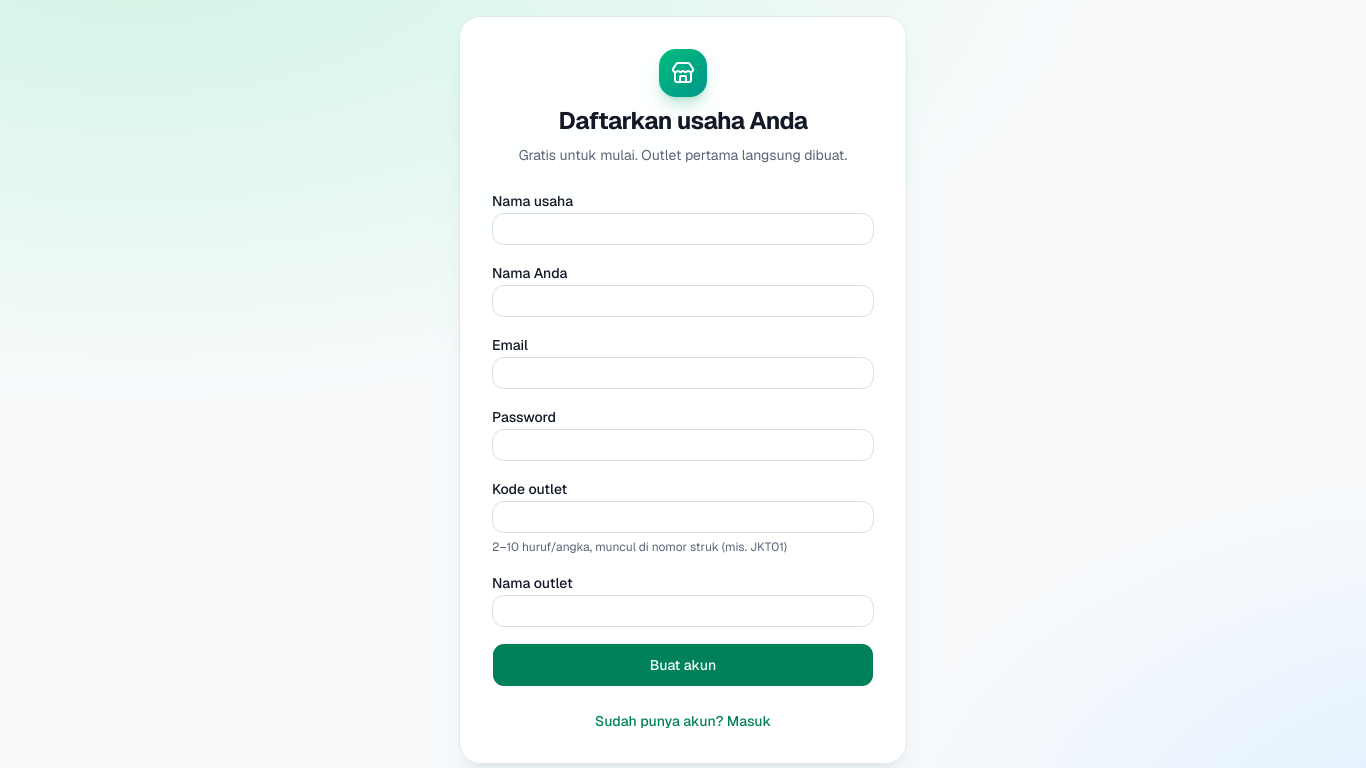
Test case: SignupScreen › shows which field the server rejected
The image size is (1366, 768).
Type "Warung" into the field labelled "Nama usaha" at [683, 229], box [492,213,874,245]
Type "Budi" into the field labelled "Nama Anda" at [683, 301], box [492,285,874,317]
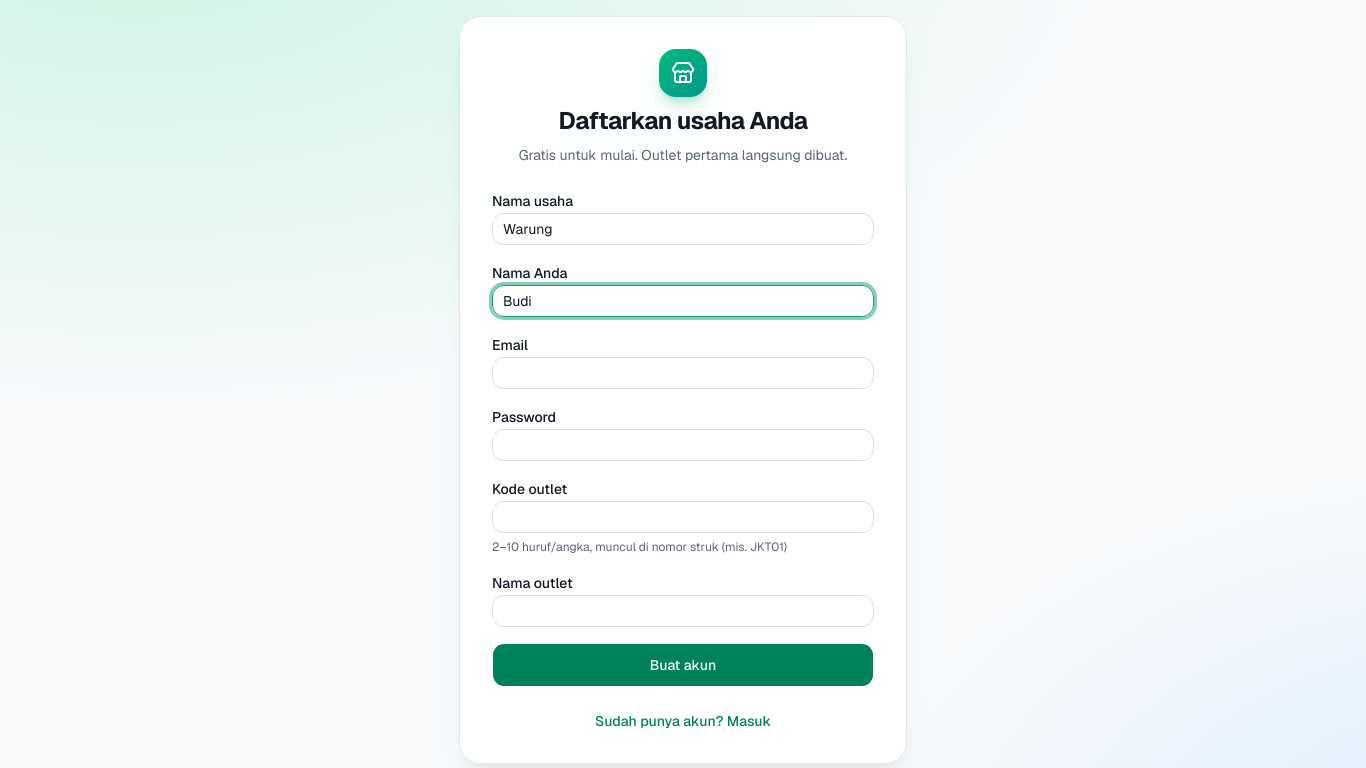
Type "budi@maharasa.id" into the field labelled "Email" at [683, 373], box [492,357,874,389]
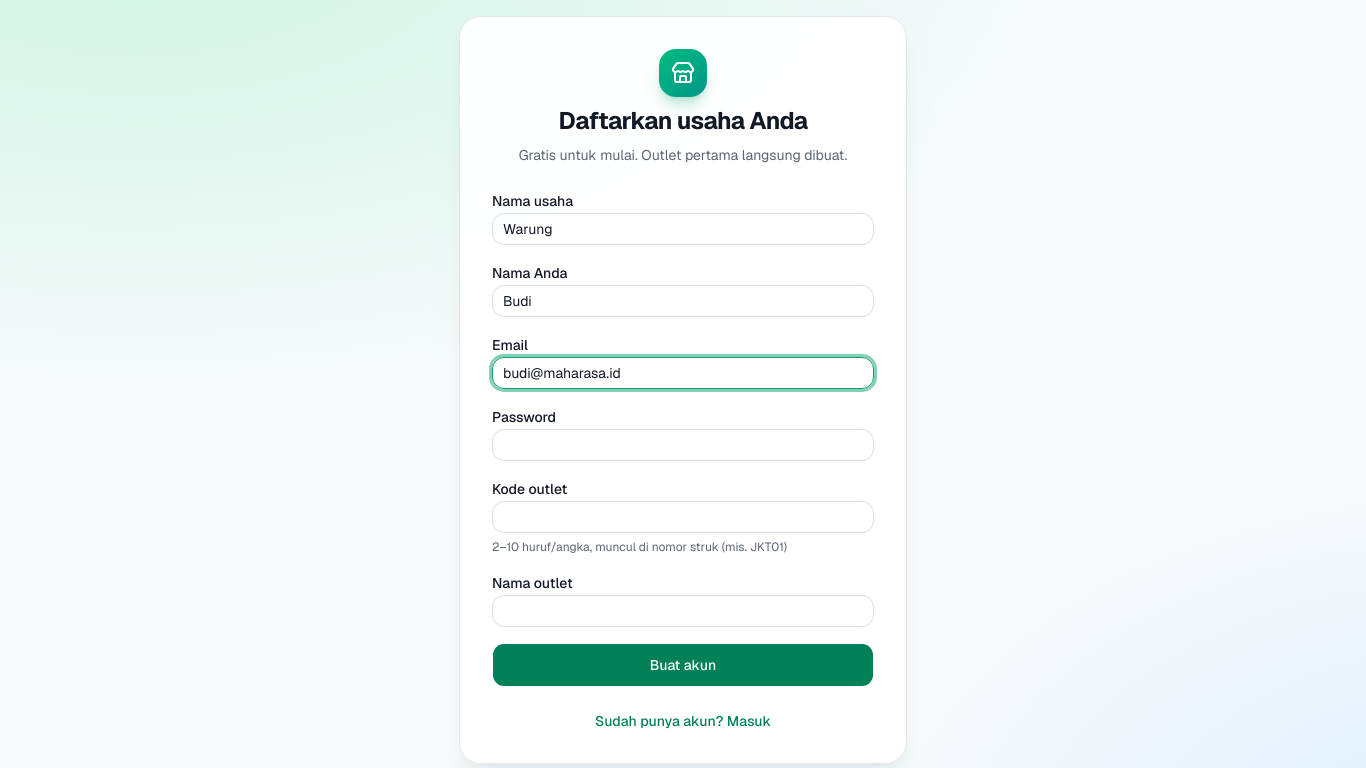
Type "rahasia-123" into the password field labelled "Password" at [683, 445], box [492,429,874,461]
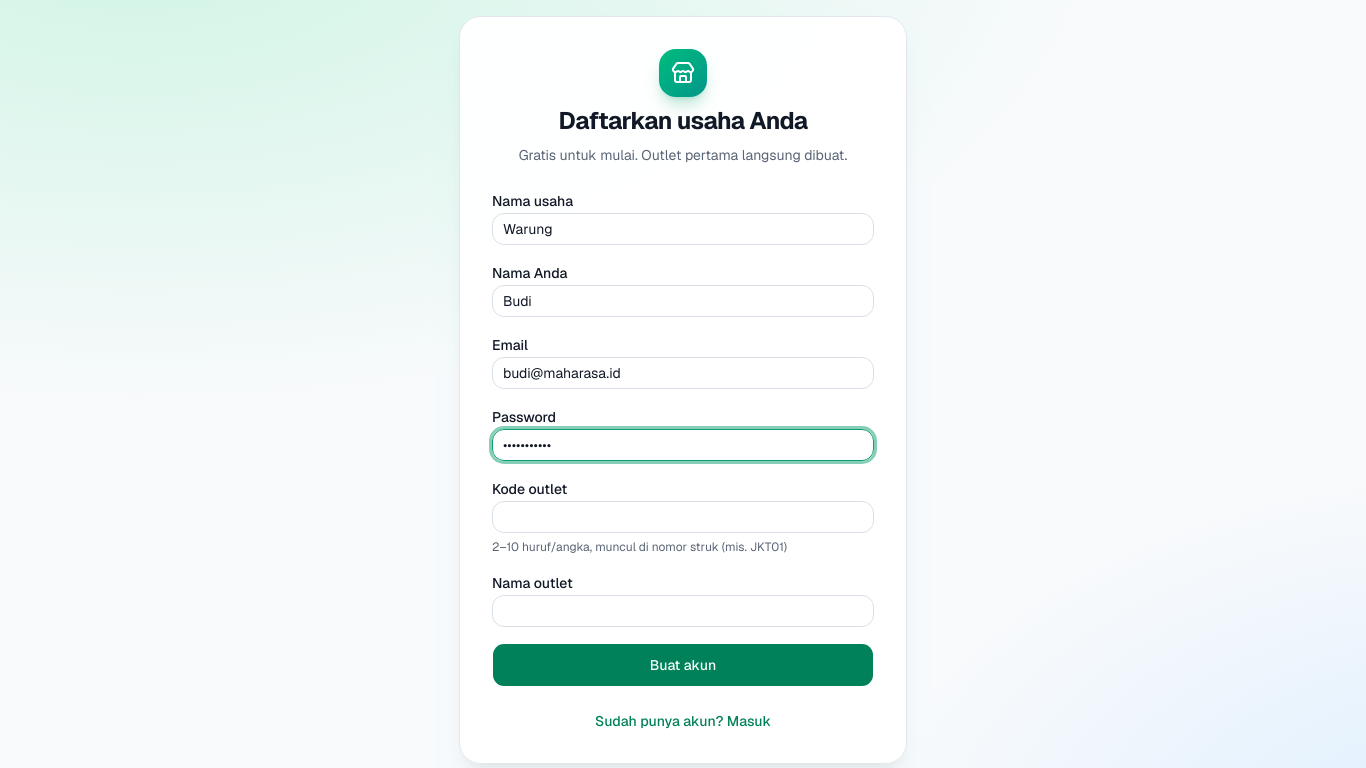
Type "JKT01" into the field labelled "Kode outlet" at [683, 517], box [492,501,874,533]
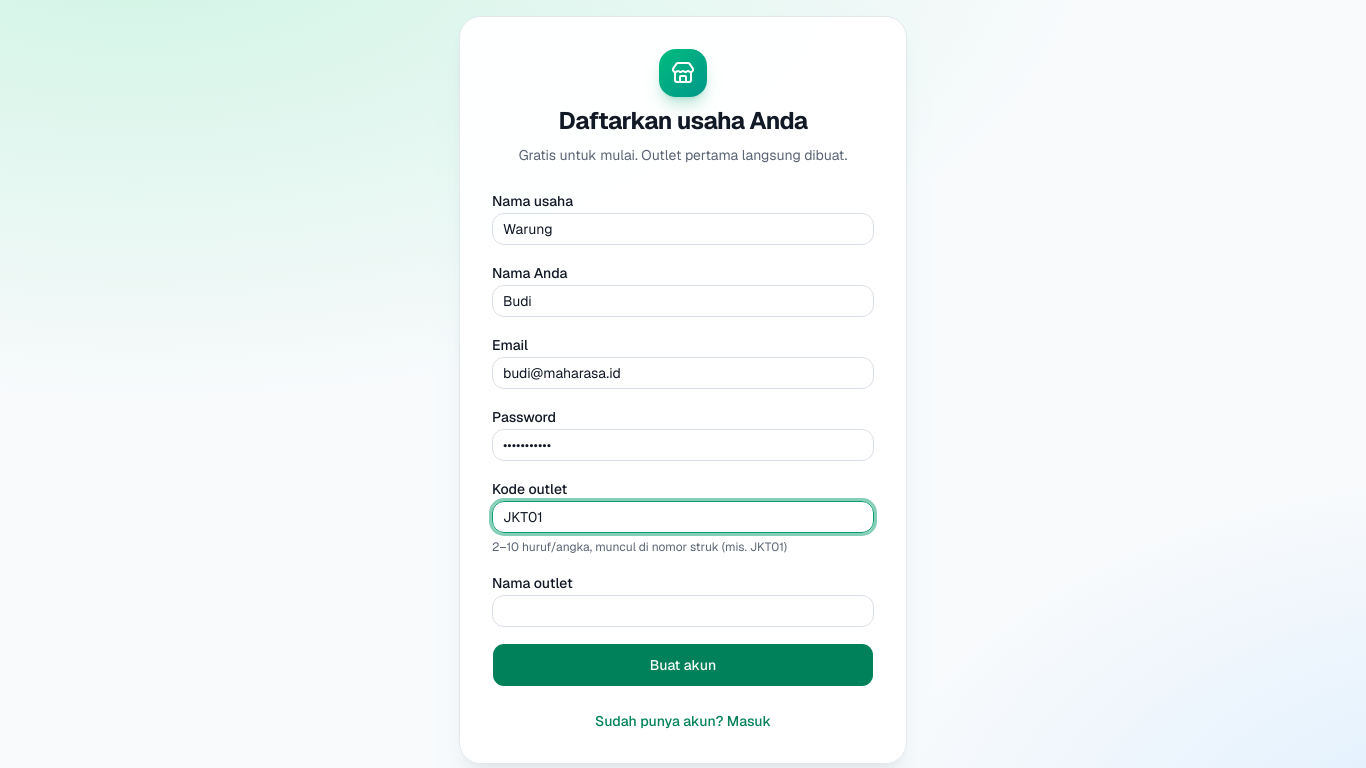
Type "Kemang" into the field labelled "Nama outlet" at [683, 611], box [492,595,874,627]
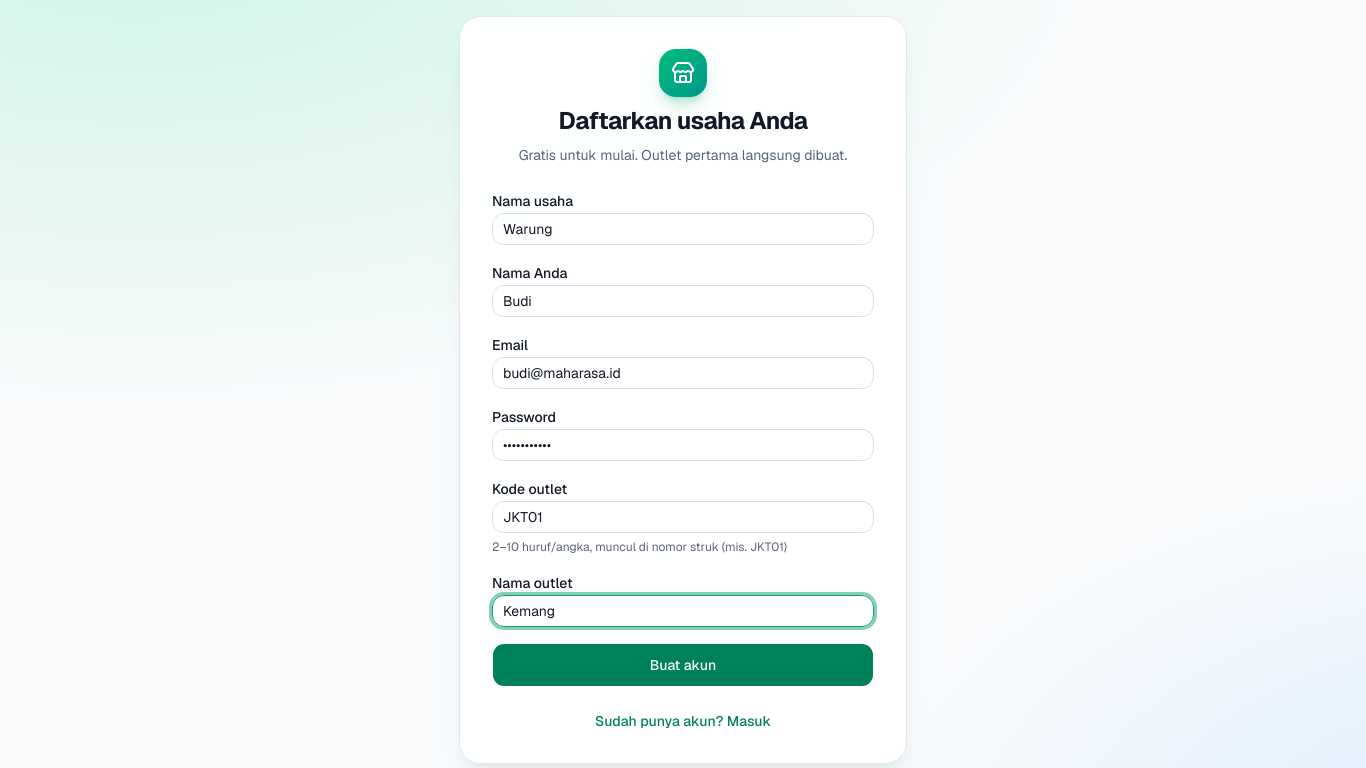
Click the button "Buat akun" at [683, 665], box [492,643,874,687]
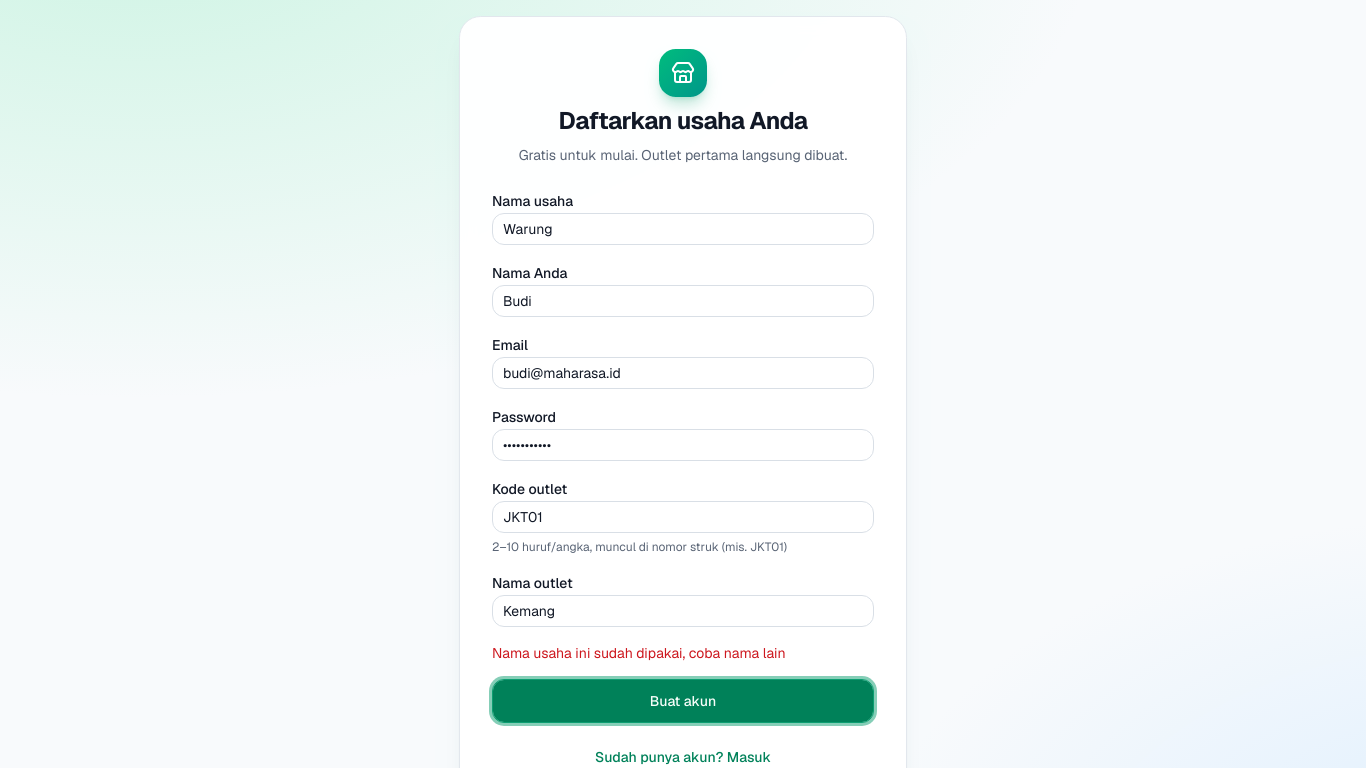
Expected: the message shows "Nama usaha ini sudah dipakai", [492,644,786,662]
